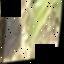Carpet weed: (2, 0, 64, 63)
